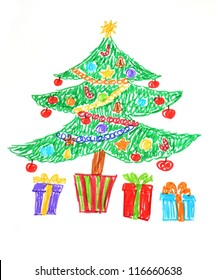tree: (6, 35, 202, 179)
